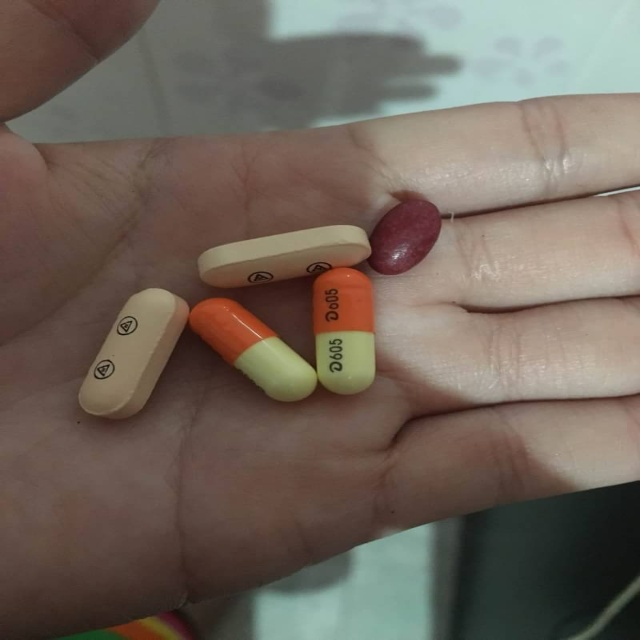pill: (241, 370, 469, 484), (231, 490, 399, 640), (92, 477, 237, 640), (386, 445, 480, 640), (461, 321, 553, 474)
